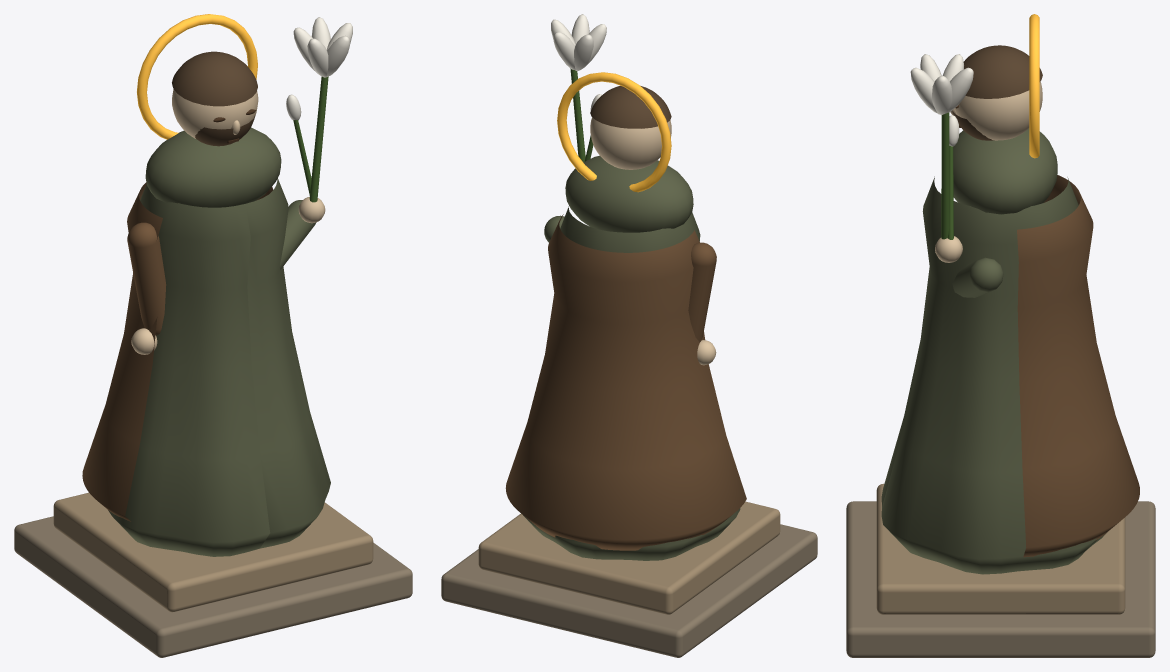
The model's file is statue-joseph.glb.
3 renders of one model, left to right at view 1: azimuth 30°, elevation 25°; view 2: azimuth 150°, elevation 25°; view 3: azimuth 270°, elevation 25°, orthographic. The views are drawn at different scales.
Parts seen in each view (by area): view 1: Robe, PlinthLow, PlinthTop, Cloak, Shoulders, Hair, ArmL, object 26, Head, LilyPetal (×2), ArmR, object 15 (+1 smaller); view 2: Cloak, PlinthLow, PlinthTop, Shoulders, Robe, object 26, Head, Hair, ArmL, object 15, LilyPetal; view 3: Robe, Cloak, PlinthLow, PlinthTop, Shoulders, Hair, Head, LilyPetal (×3), object 26, ArmR, object 15, HandR (+1 smaller).
Boxes of the visible parts, left/top/right/bottom form: Robe: left=108, top=178, right=330, bottom=556; PlinthLow: left=14, top=516, right=412, bottom=657; PlinthTop: left=53, top=492, right=373, bottom=612; Cloak: left=82, top=182, right=273, bottom=521; Shoulders: left=145, top=127, right=281, bottom=207; Hair: left=172, top=51, right=257, bottom=106; ArmL: left=127, top=222, right=166, bottom=335; object 26: left=137, top=14, right=257, bottom=139; Head: left=172, top=89, right=258, bottom=138; LilyPetal (×2): left=307, top=35, right=349, bottom=77; ArmR: left=279, top=200, right=316, bottom=269; object 15: left=309, top=76, right=328, bottom=202; Cloak: left=505, top=214, right=746, bottom=550; PlinthLow: left=441, top=524, right=817, bottom=657; PlinthTop: left=478, top=501, right=780, bottom=614; Shoulders: left=565, top=155, right=693, bottom=232; Robe: left=523, top=206, right=740, bottom=560; object 26: left=557, top=72, right=671, bottom=192; Head: left=590, top=117, right=671, bottom=169; Hair: left=590, top=86, right=671, bottom=128; ArmL: left=688, top=242, right=716, bottom=341; object 15: left=570, top=68, right=585, bottom=162; LilyPetal: left=574, top=34, right=593, bottom=71; Robe: left=881, top=176, right=1107, bottom=574; Cloak: left=1017, top=175, right=1139, bottom=557; PlinthLow: left=846, top=501, right=1155, bottom=657; PlinthTop: left=876, top=483, right=1125, bottom=614; Shoulders: left=953, top=128, right=1057, bottom=214; Hair: left=963, top=45, right=1042, bottom=98; Head: left=954, top=81, right=1042, bottom=140; LilyPetal (×3): left=910, top=67, right=973, bottom=114; object 26: left=1029, top=14, right=1039, bottom=158; ArmR: left=952, top=257, right=1003, bottom=297; object 15: left=941, top=112, right=949, bottom=239; HandR: left=935, top=236, right=962, bottom=262.
Bounding box in the file's own units: 0.92 × 1.89 × 0.92.
